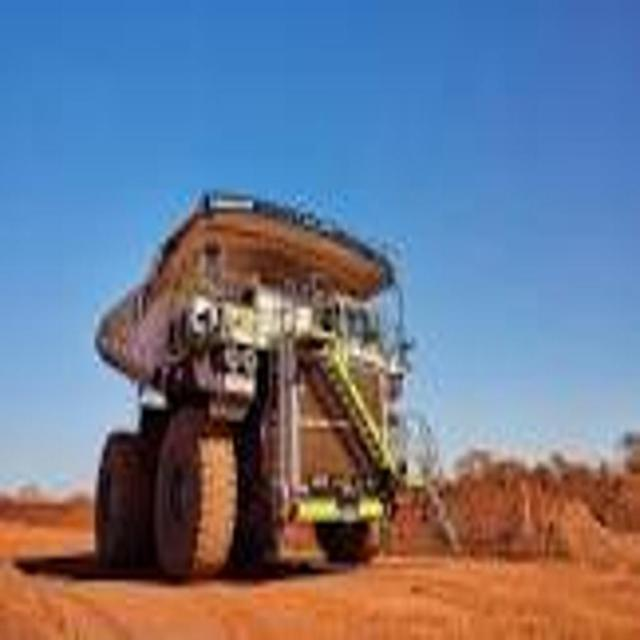dump_truck: (87, 177, 417, 576)
